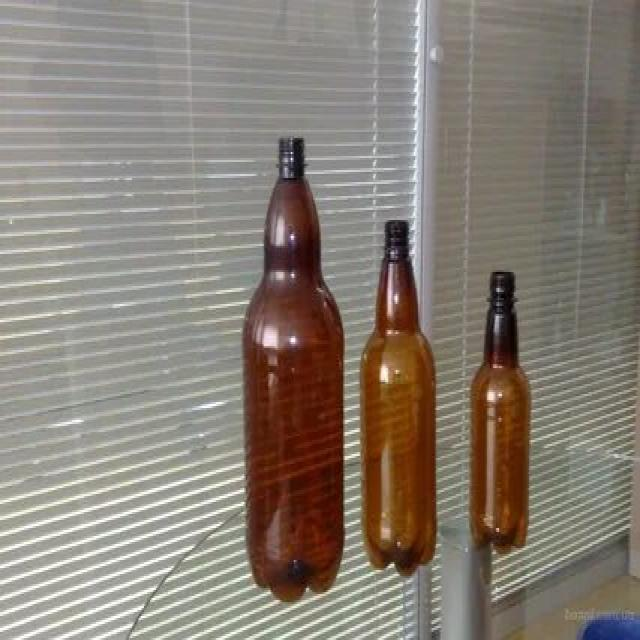brown: (242, 138, 344, 602), (361, 220, 440, 577), (471, 272, 528, 555)
